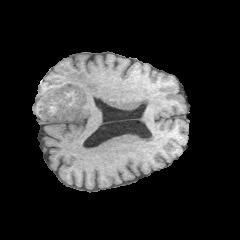glioma: (38, 71, 104, 121)
